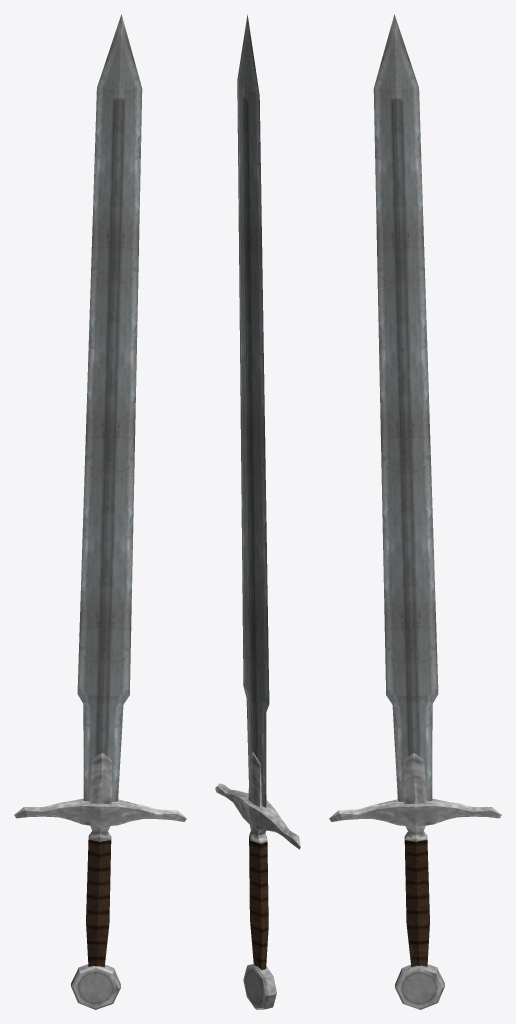
Rendered from iron sword.fbx.
The picture shows the model from 3 angles, left to right: view 1: azimuth 90°, elevation 25°; view 2: azimuth 210°, elevation 25°; view 3: azimuth 270°, elevation 25°; orthographic projection.
Parts seen in each view (by area): view 1: iron_sword; view 2: iron_sword; view 3: iron_sword.
Boxes of the visible parts, box(x1,y1,x2,y2) form: iron_sword: box(14, 14, 186, 1009); iron_sword: box(215, 14, 300, 1009); iron_sword: box(329, 14, 501, 1009).
Bounding box in the file's own units: 0.00526 × 0.2616 × 0.0412.
